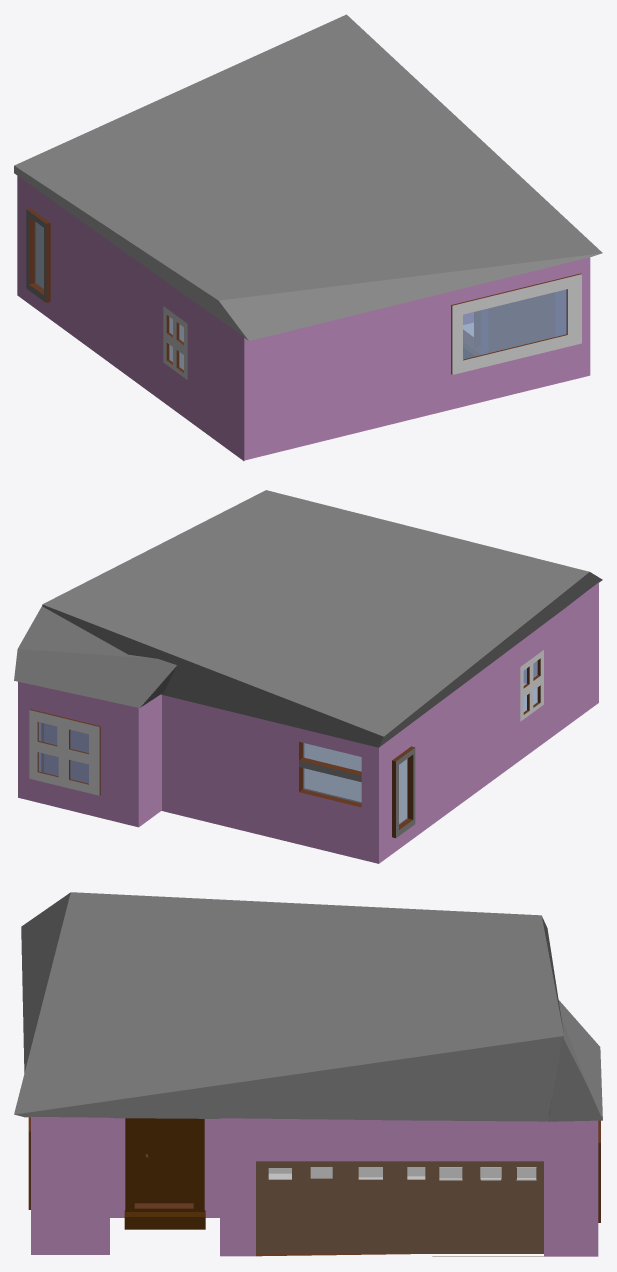
File: house6.fbx
3 views of the same model, one above another, from view 1: azimuth 30°, elevation 25°; view 2: azimuth 150°, elevation 25°; view 3: azimuth 270°, elevation 25° (orthographic). The views are drawn at different scales.
Parts seen in each view (by area): view 1: Cube, SketchUp, SketchUp.009, SketchUp.010, Cube.002, SketchUp.001, SketchUp.048, SketchUp.054, Cube.005; view 2: Cube, SketchUp, Cube.001, SketchUp.017, Cube.003, SketchUp.063, SketchUp.048, SketchUp.062, SketchUp.060, SketchUp.054, Cube.005, SketchUp.053; view 3: Cube, SketchUp, SketchUp.004, SketchUp.005, SketchUp.006, Cube.001, SketchUp.023, Cube.004.
Boxes of the visible parts, x1,y1,x2,y2 form: Cube: (14,14,602,340); SketchUp: (17,176,590,460); SketchUp.009: (463,289,566,359); SketchUp.010: (452,274,581,374); Cube.002: (327,325,370,410); SketchUp.001: (488,292,554,352); SketchUp.048: (163,306,187,379); SketchUp.054: (26,209,46,302); Cube.005: (34,221,43,289); Cube: (42,490,602,747); SketchUp: (18,582,598,863); Cube.001: (14,606,176,707); SketchUp.017: (29,710,99,795); Cube.003: (172,712,253,783); SketchUp.063: (303,768,361,803); SketchUp.048: (520,650,543,721); SketchUp.062: (303,743,361,771); SketchUp.060: (299,742,361,807); SketchUp.054: (396,748,415,837); Cube.005: (399,758,407,824); SketchUp.053: (399,754,413,829); Cube: (14,892,563,1121); SketchUp: (31,1116,598,1256); SketchUp.004: (256,1161,430,1253); SketchUp.005: (430,1161,543,1253); SketchUp.006: (134,1122,193,1203); Cube.001: (548,1000,602,1121); SketchUp.023: (125,1118,204,1211); Cube.004: (124,1210,205,1229).
Bounding box in the file's own units: 2078 × 1073 × 2603.
